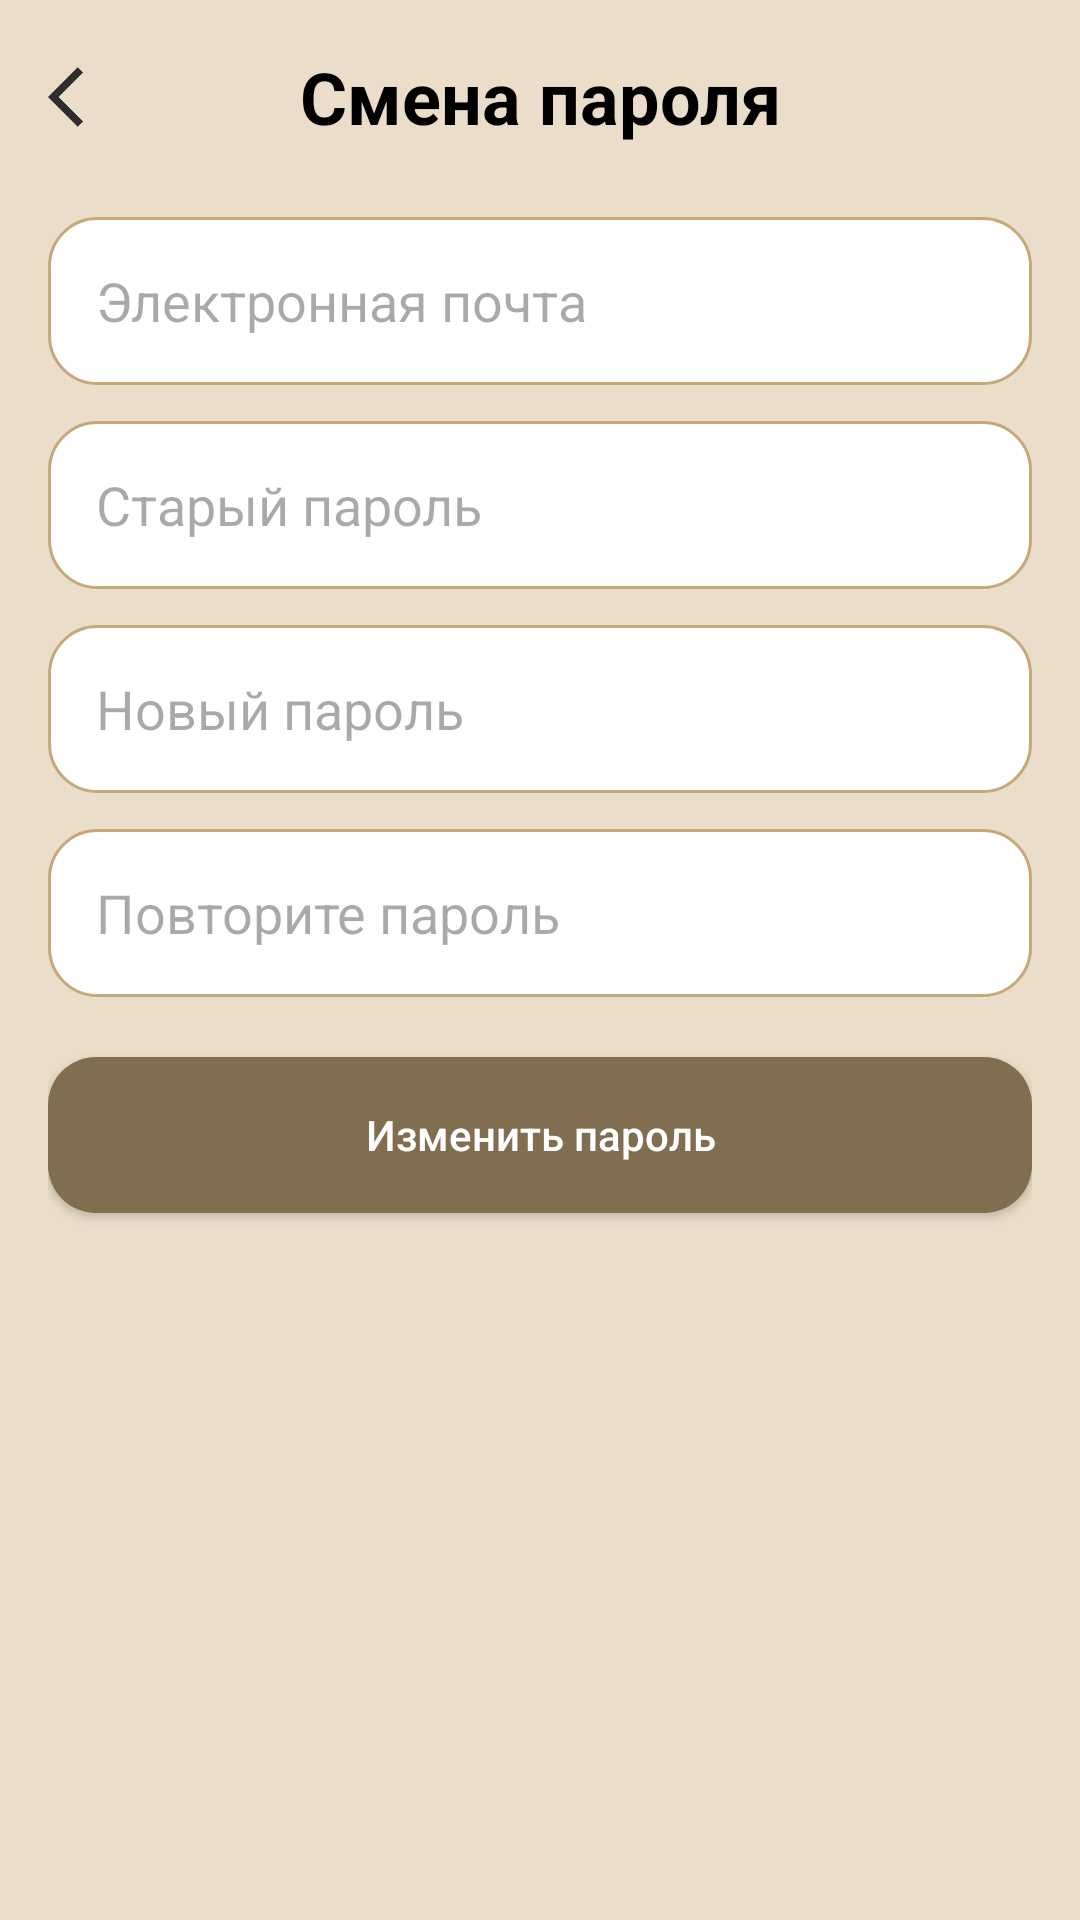

Icon bounding boxes for this 1080×1920 phone screenshot, format rect(x1, y1, x2, y2):
Назад: rect(48, 67, 83, 127)
